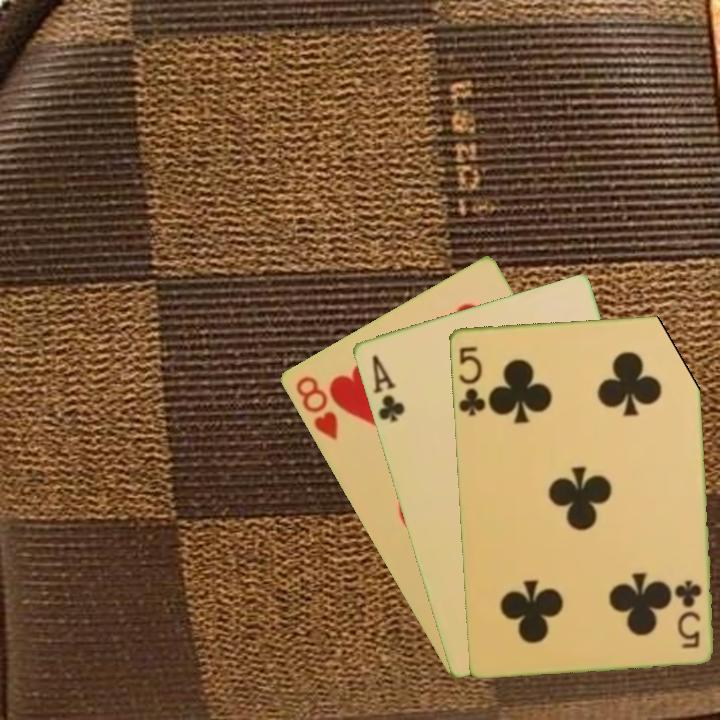5c: (455, 342, 488, 418), (673, 576, 704, 651)
8h: (291, 372, 341, 443)
Ac: (368, 350, 407, 425)
